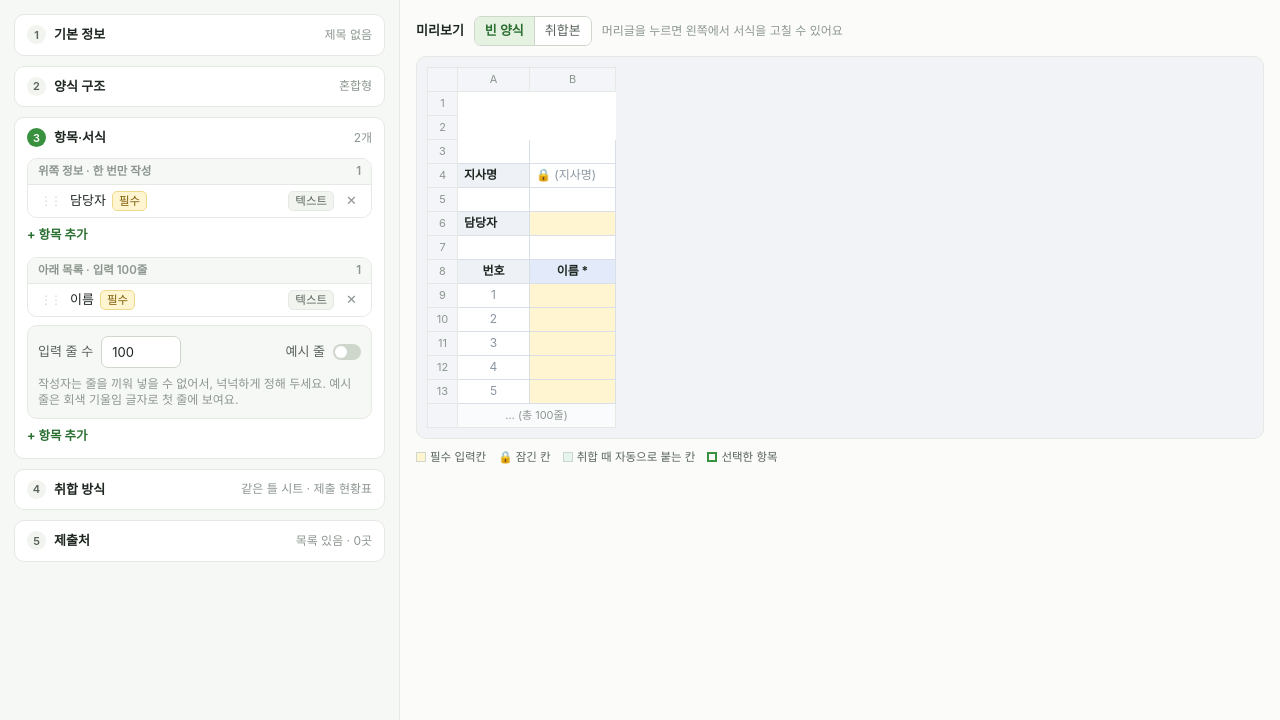
Scenario: ⑤ 제출처 트리 › 한난: 지사 전체 → 19곳, 본사 부서를 더 고르면 부르는 말이 부서로
The image size is (1280, 720).
Click the button "5 제출처 목록 있음 · 0곳".
click(72, 540)  # box x1=15 y1=521 x2=384 y2=560
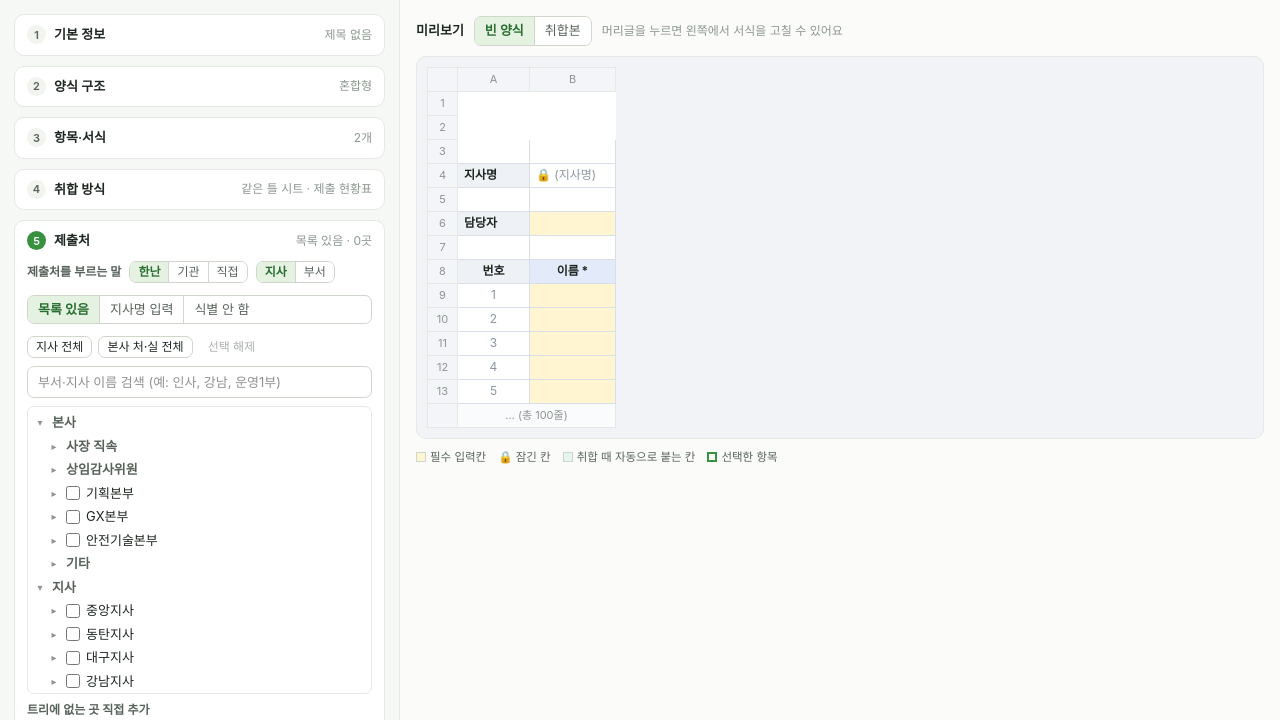
Click the button "지사 전체".
click(60, 347)  # box x1=27 y1=336 x2=92 y2=358
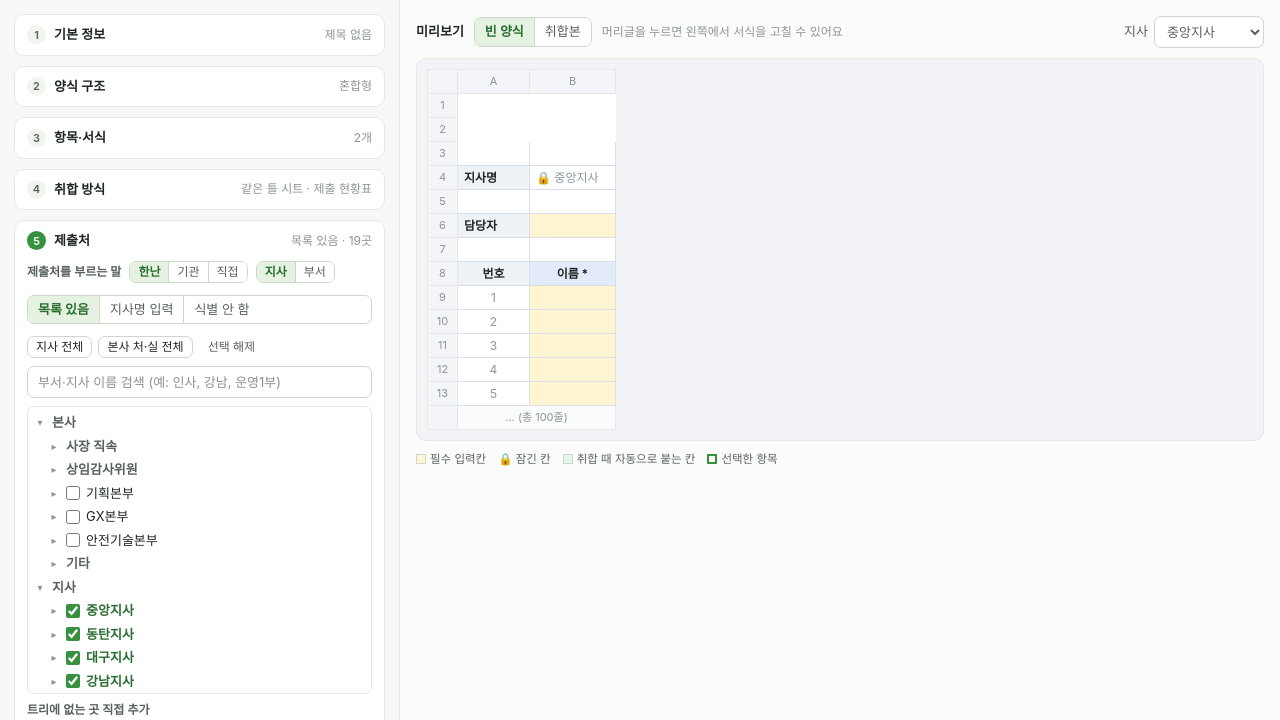
Type "인사부" into the search field named "조직 검색".
click(200, 382); type("인사부")  # box x1=27 y1=366 x2=372 y2=398
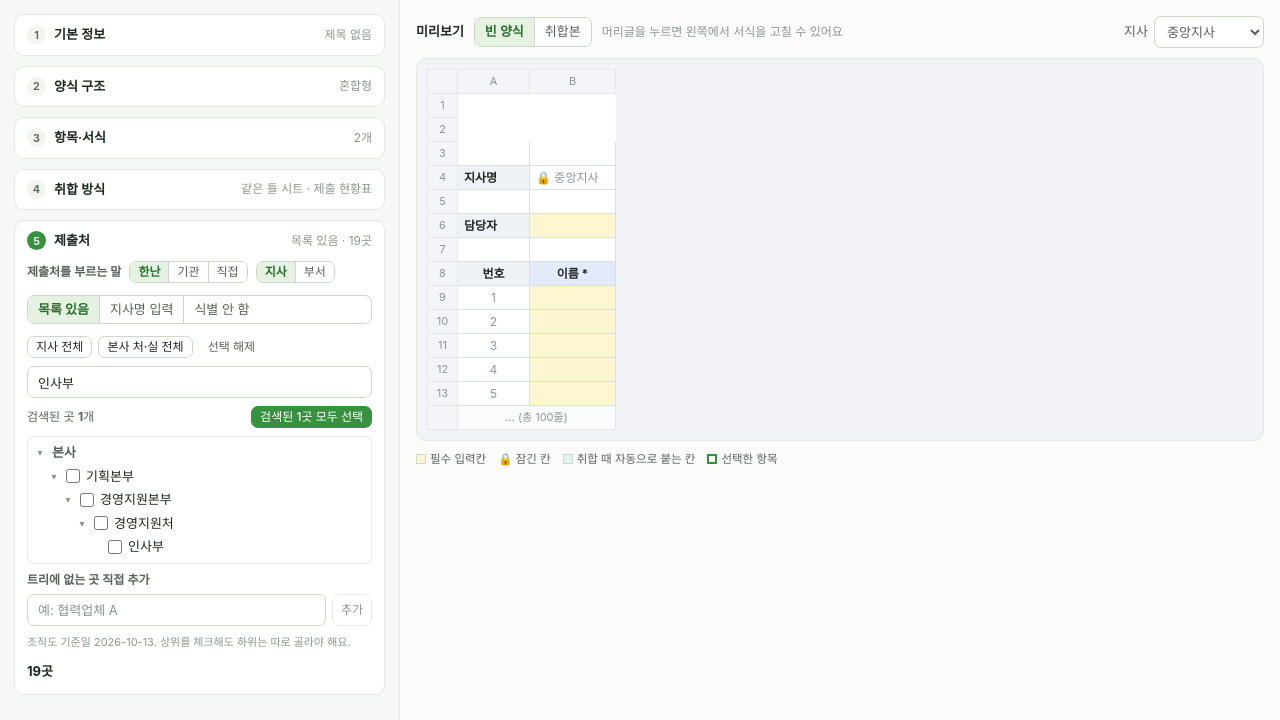
Click the checkbox labelled "인사부".
click(115, 547)  # box x1=108 y1=540 x2=122 y2=554
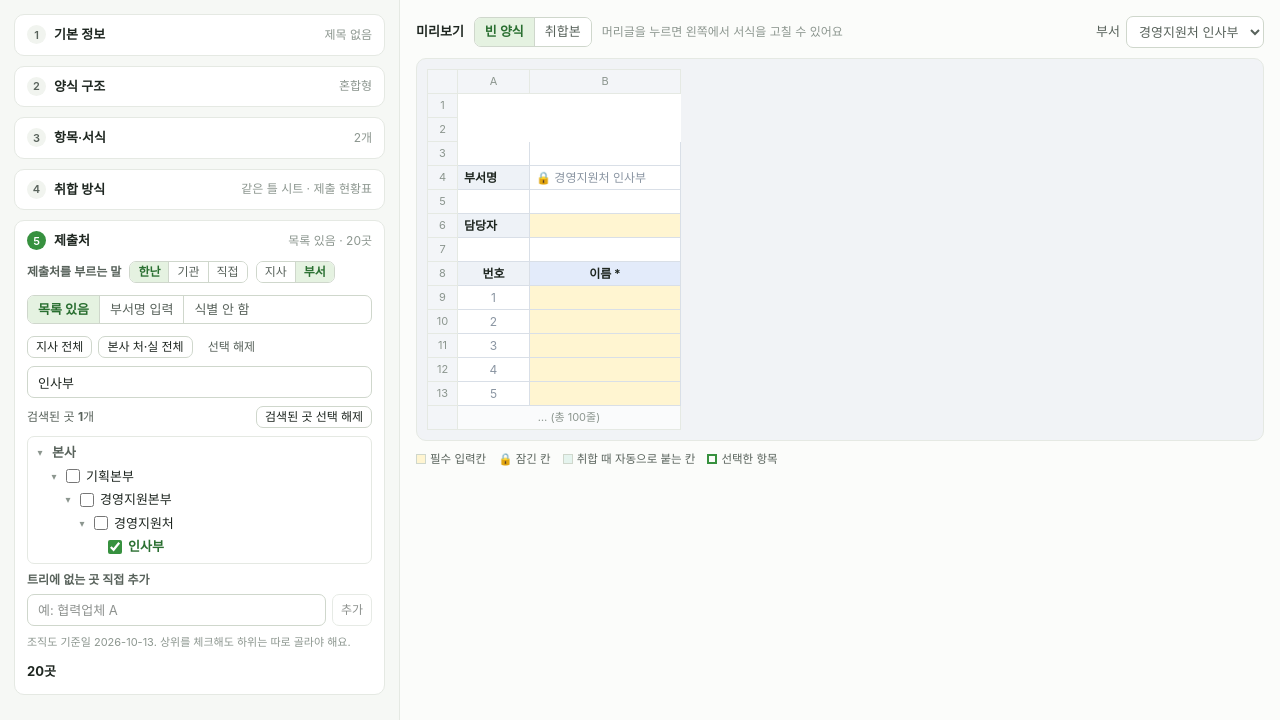
Check: the text "20곳" is shown, box x1=27 y1=663 x2=56 y2=679
